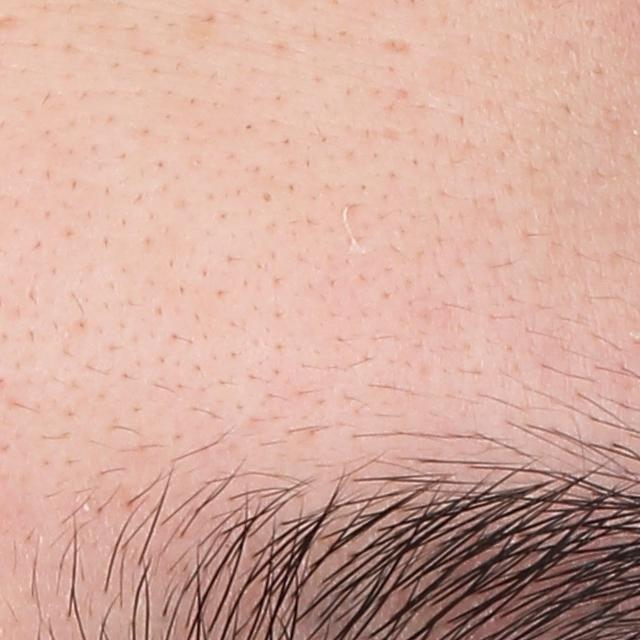atrophic_scar: (375, 35, 413, 58)
